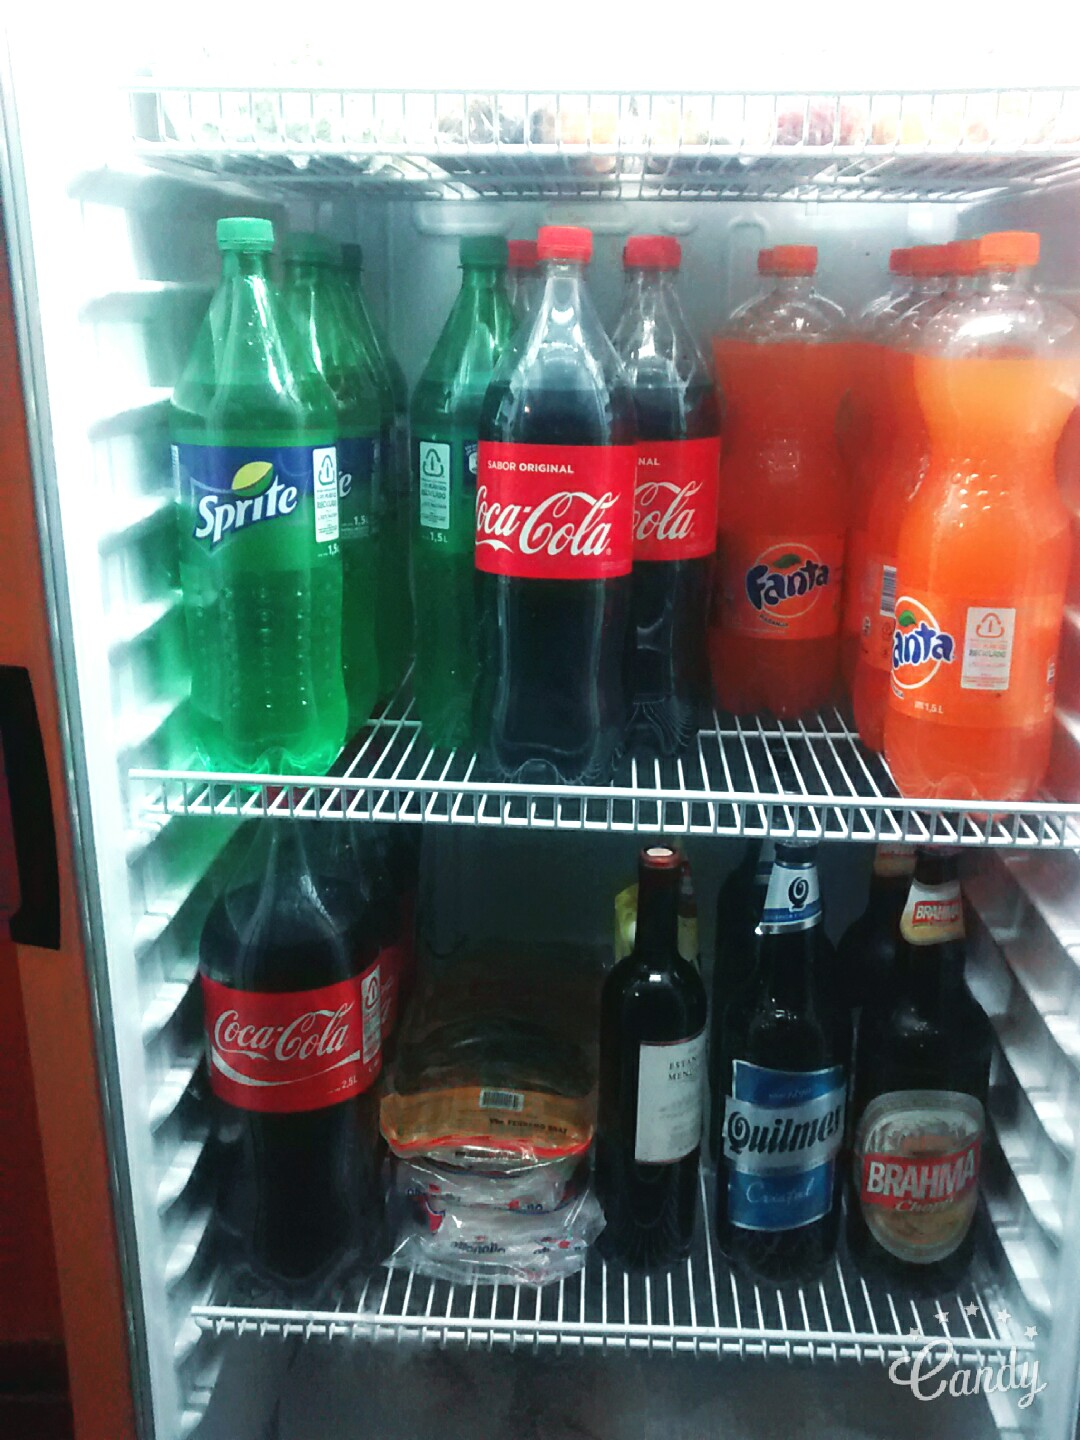brahma: (862, 1150, 984, 1202)
cocacola: (473, 488, 619, 567), (211, 999, 356, 1065)
fanta: (748, 547, 830, 624)
quilmes: (725, 1098, 842, 1161)
sprite: (196, 461, 304, 554)
